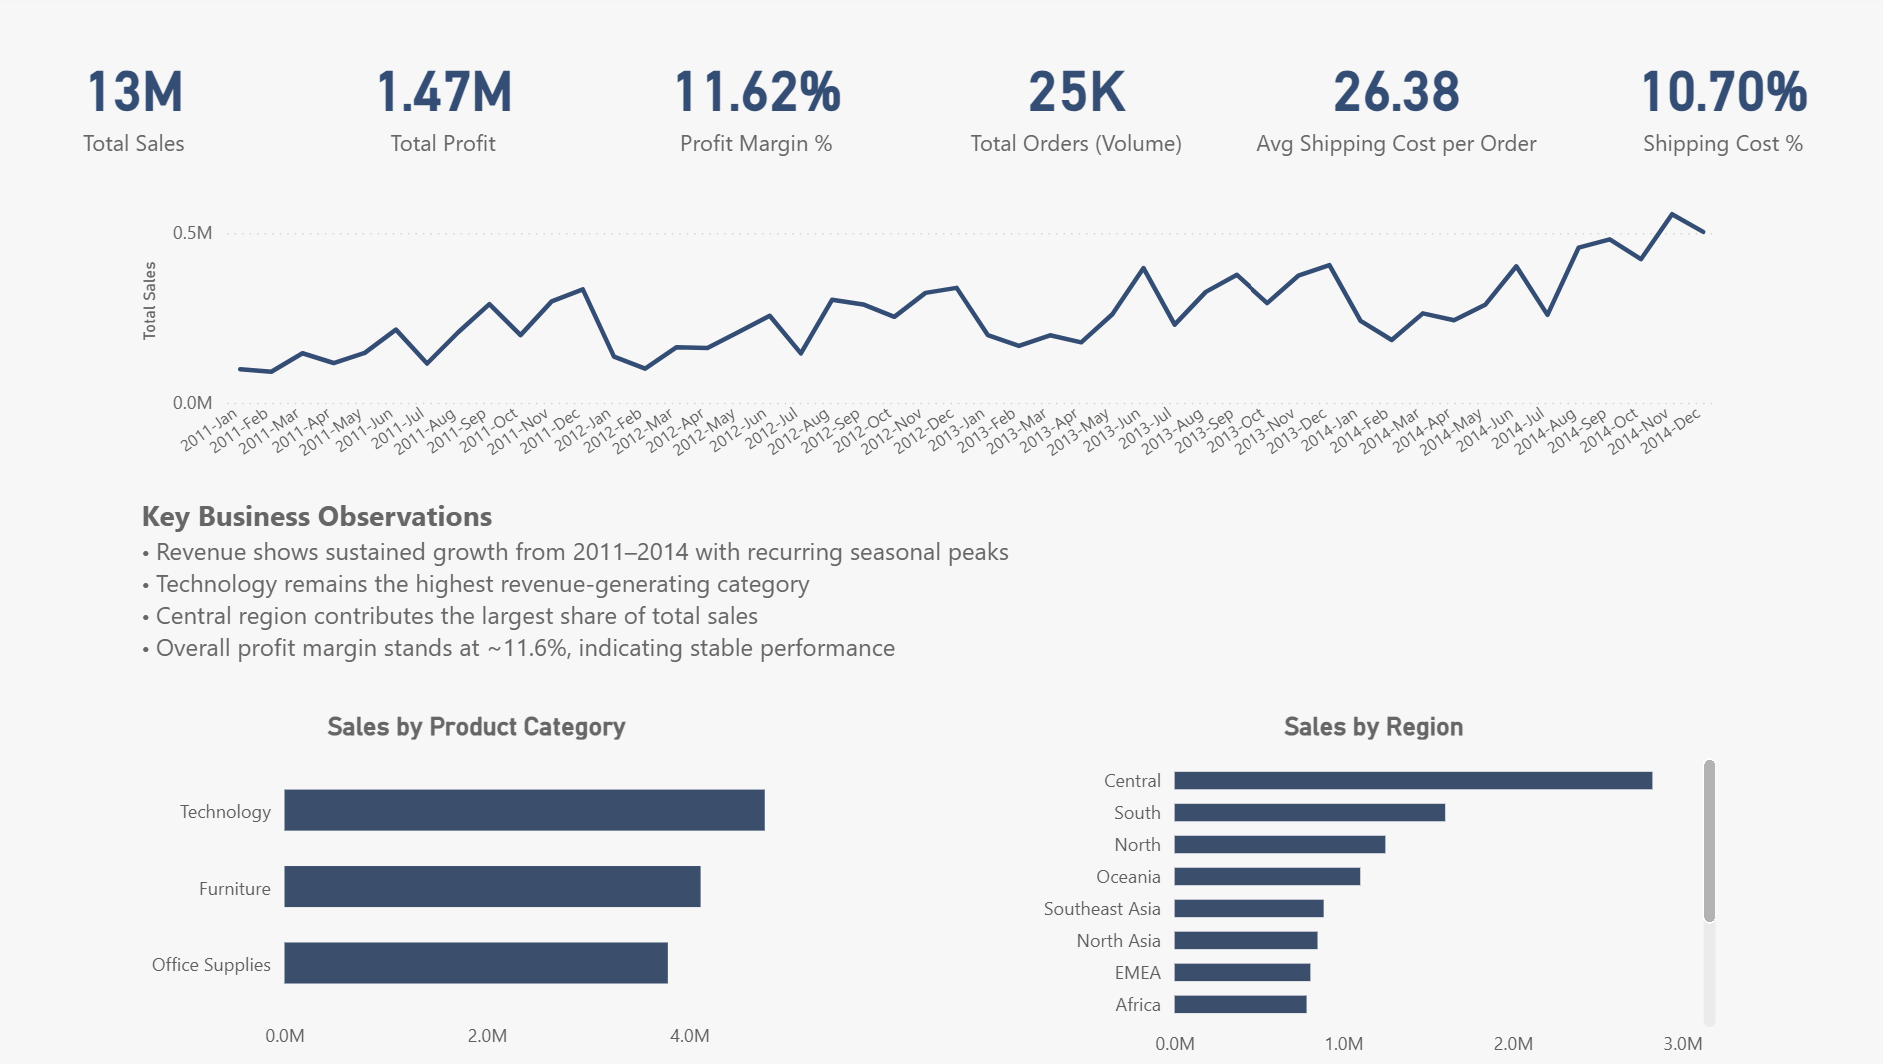

The page's visual inventory and layout, read from the dashboard file:
{"tool":"powerbi","page":{"name":"Executive Performance Summary","canvas":[1280,720],"ordinal":0},"visuals":[{"type":"card","fields":{"Values":["sales_clean.Total Sales"]},"box":[14.2,23.1,191.8,103],"z":0},{"type":"card","fields":{"Values":["sales_clean.Total Profit"]},"box":[222.4,23.1,186.5,103],"z":1000},{"type":"card","fields":{"Values":["sales_clean.Profit Margin %"]},"box":[425.3,23.1,197.2,103],"z":2000},{"type":"card","fields":{"Values":["sales_clean.Total Orders"]},"box":[638.8,23.1,191.8,103],"z":3000},{"type":"card","fields":{"Values":["sales_clean.Avg Shipping Cost"]},"box":[847,23.1,202.5,103],"z":4000},{"type":"lineChart","fields":{"Y":["sales_clean.Total Sales"],"Category":["sales_clean.YearMonth"]},"box":[110.1,126.1,1055.1,197.2],"z":5000},{"type":"clusteredBarChart","title":"Sales by Product Category","fields":{"Category":["sales_clean.category"],"Y":["sales_clean.Total Sales"]},"box":[110.1,479.6,454.7,234.5],"z":6000},{"type":"clusteredBarChart","title":"Sales by Region","fields":{"Category":["sales_clean.region"],"Y":["sales_clean.Total Sales"]},"box":[701.7,479.6,463.6,239.8],"z":7000},{"type":"card","fields":{"Values":["DateTable.Shipping Cost %"]},"box":[1065.8,23.1,198.9,103],"z":8000},{"type":"textbox","box":[110.1,332.2,667.9,124.3],"z":9000}]}

Visuals, with their boxes in screenshot pixels (x1, y1, x2, y2), scaled from the page's 1280x720 canvas onto the 1883x1064 screenshot:
card - sales_clean.Total Sales: BBox(21, 34, 303, 186)
card - sales_clean.Total Profit: BBox(327, 34, 602, 186)
card - sales_clean.Profit Margin %: BBox(626, 34, 916, 186)
card - sales_clean.Total Orders: BBox(940, 34, 1222, 186)
card - sales_clean.Avg Shipping Cost: BBox(1246, 34, 1544, 186)
lineChart - sales_clean.Total Sales x sales_clean.YearMonth: BBox(162, 186, 1714, 478)
"Sales by Product Category" clusteredBarChart: BBox(162, 709, 831, 1055)
"Sales by Region" clusteredBarChart: BBox(1032, 709, 1714, 1063)
card - DateTable.Shipping Cost %: BBox(1568, 34, 1860, 186)
textbox: BBox(162, 491, 1145, 675)
